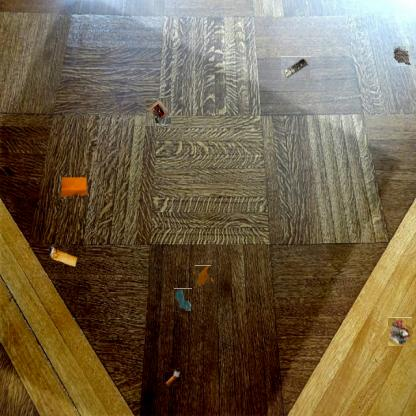dirty: (49, 244, 79, 268), (387, 319, 414, 345), (145, 99, 171, 126), (282, 56, 312, 79), (60, 175, 88, 199), (394, 46, 416, 66), (164, 368, 183, 386)
liquid: (174, 288, 192, 311), (194, 267, 213, 285)
